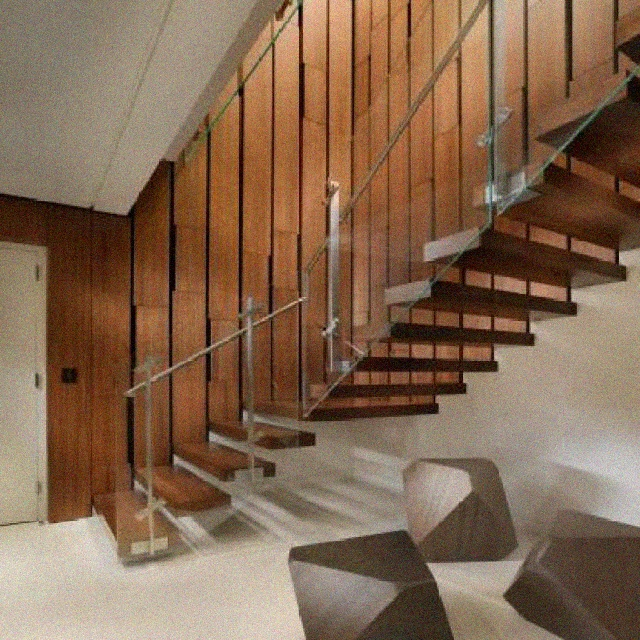stair: (46, 0, 640, 580)
